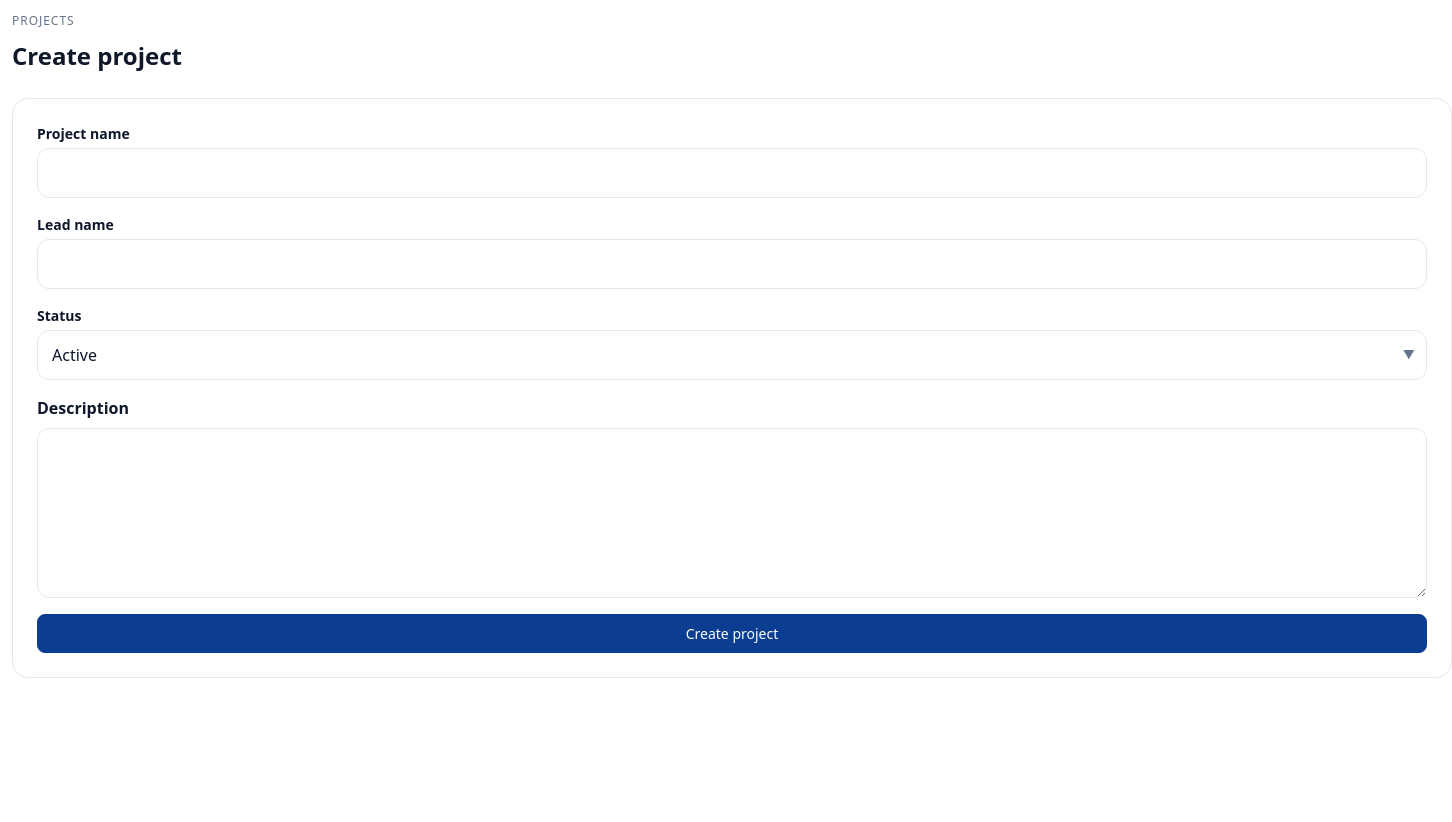
ProjectCreatePage › shows error display on API failure
Type "Failing project" into the field labelled "Project name" at (732, 173), box [37,148,1427,198]
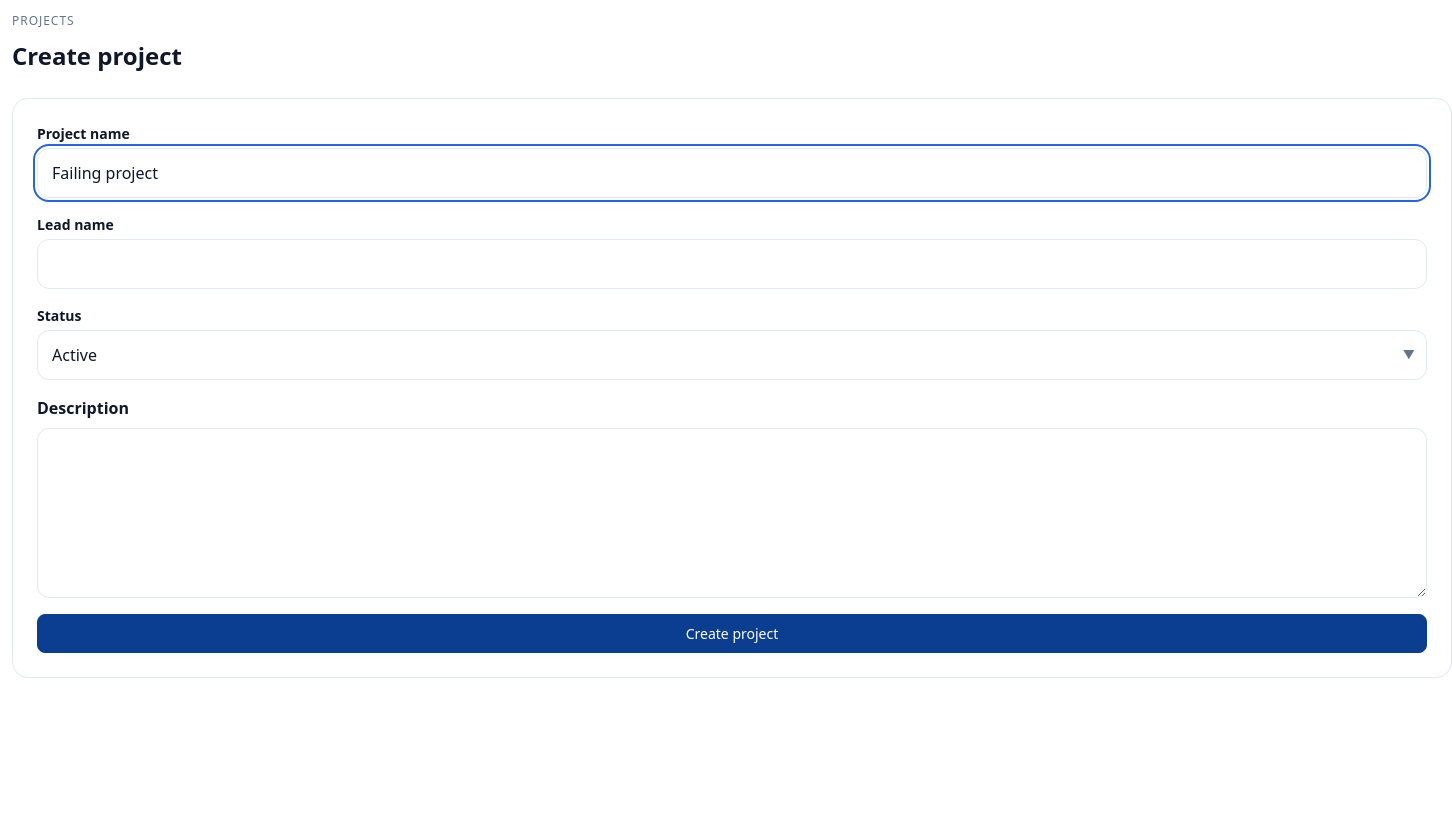
Type "Tester" into the field labelled "Lead name" at (732, 264), box [37,239,1427,289]
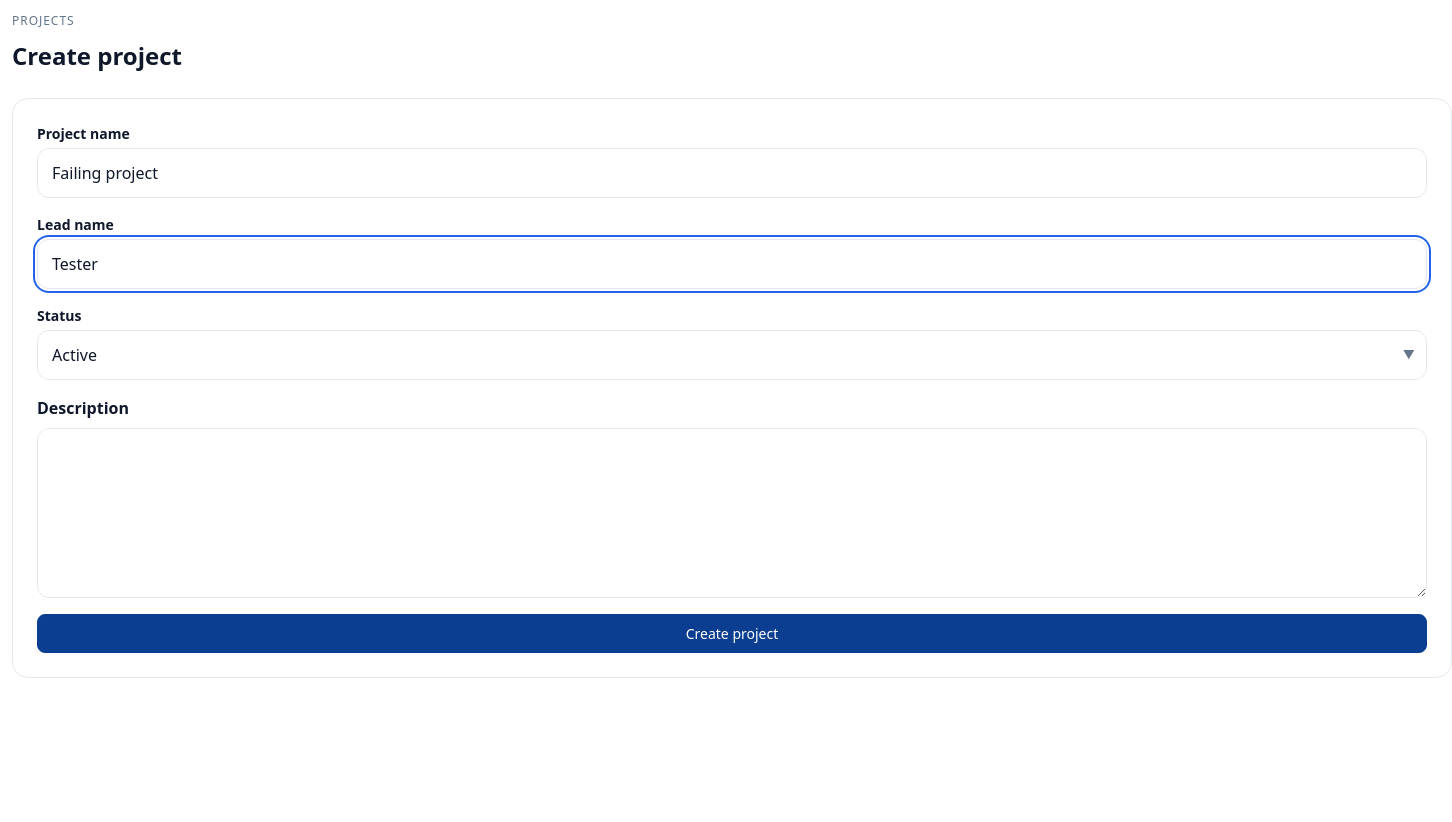
Click the button "Create project" at (732, 634), box [37,614,1427,653]
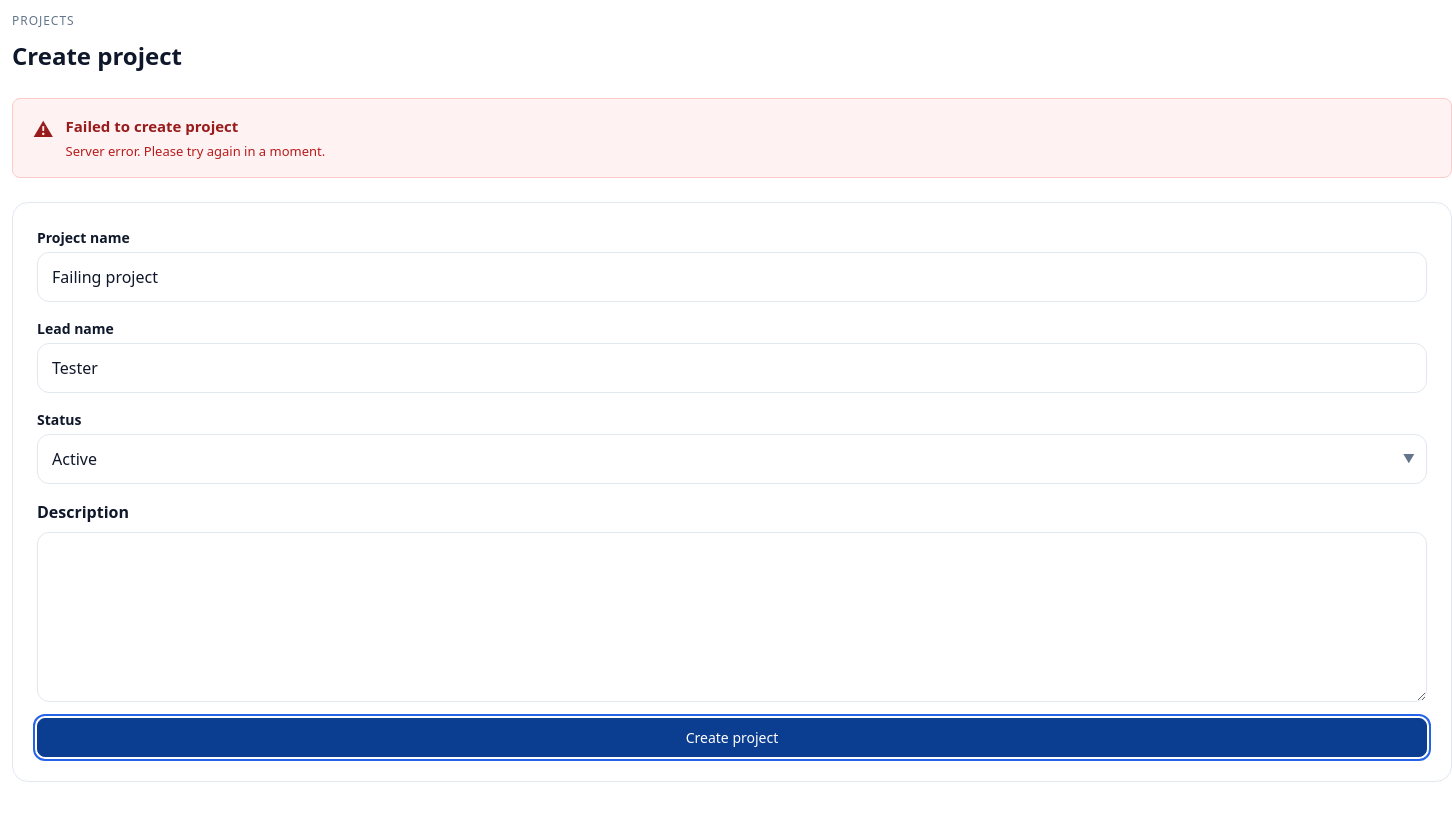
Expected: the heading "Failed to create project" is shown, [66,116,238,136]
